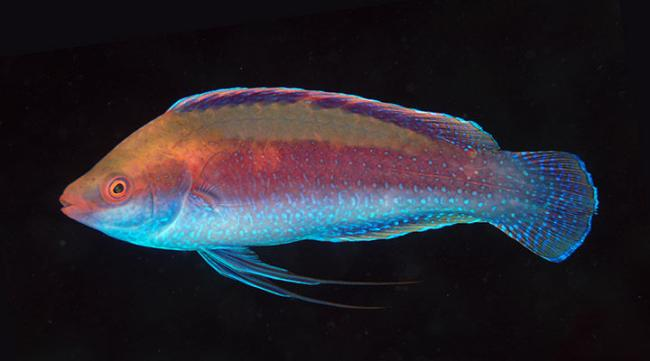fish: (61, 88, 597, 312)
